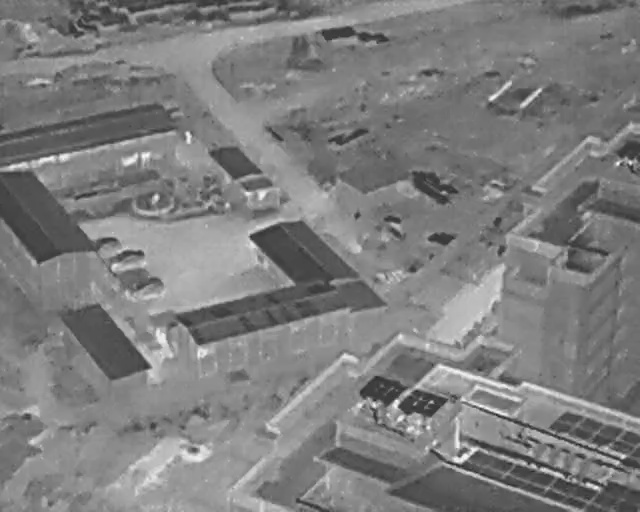Car: (125, 271, 166, 302), (106, 245, 147, 270), (89, 232, 123, 256)
Person: (184, 129, 192, 143)
